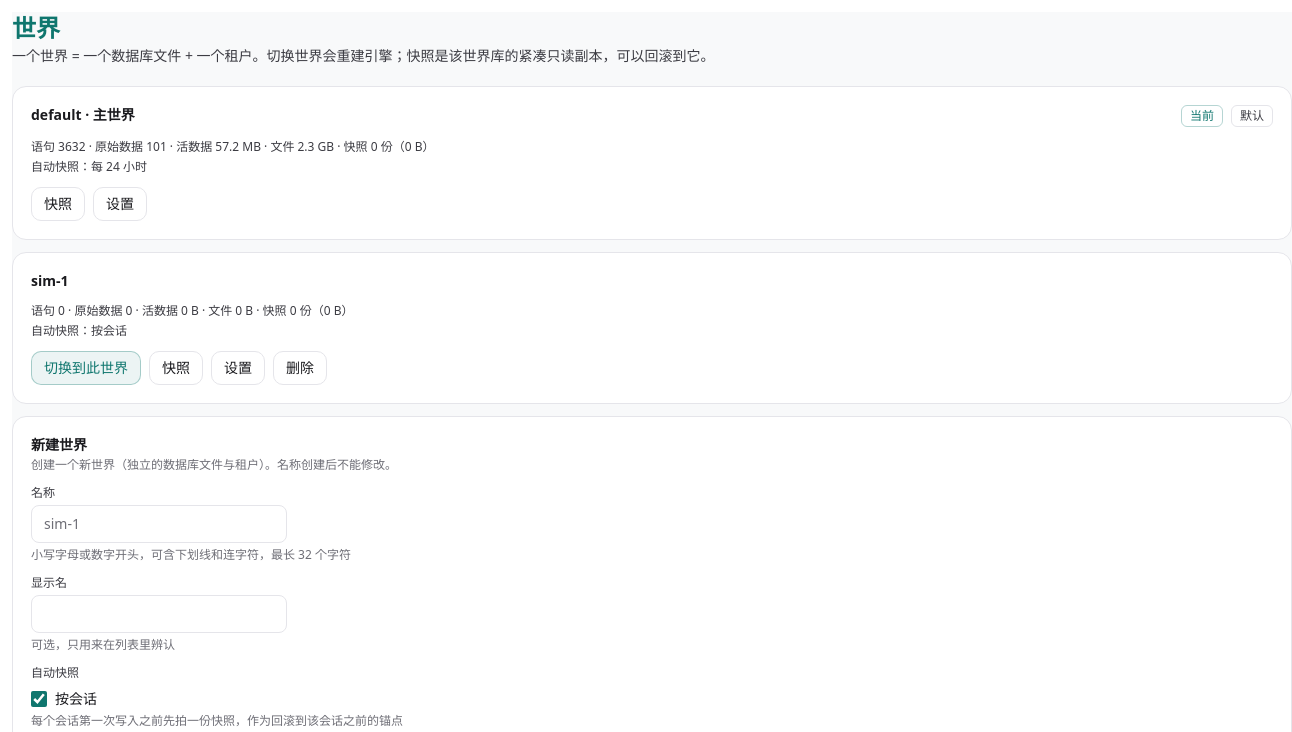
/worlds 新建的错误与 label › 名称不合法时显示字段错误并标 aria-invalid
Type "Bad Name" into the field named "world-name".
click(159, 524); type("Bad Name")  # box x1=31 y1=505 x2=287 y2=543
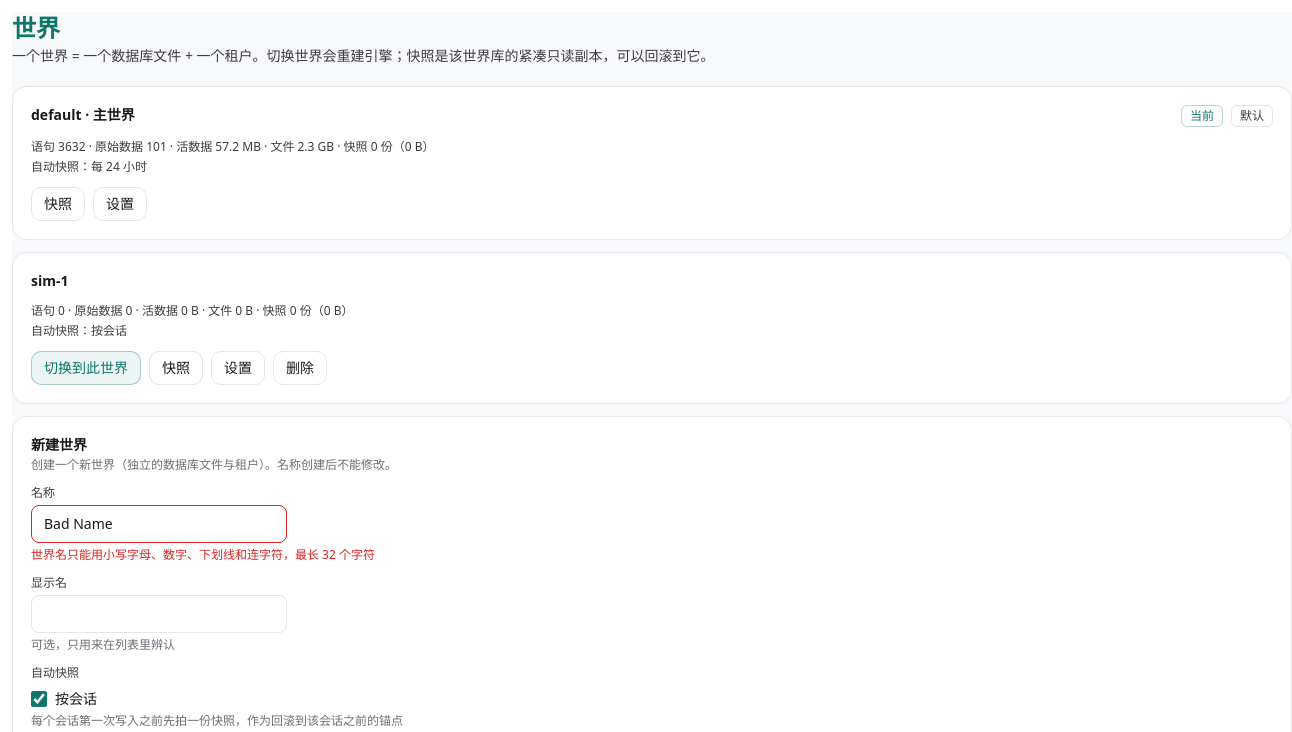
Result: the text "世界名只能用小写字母" is shown at x1=31 y1=546 x2=375 y2=563
